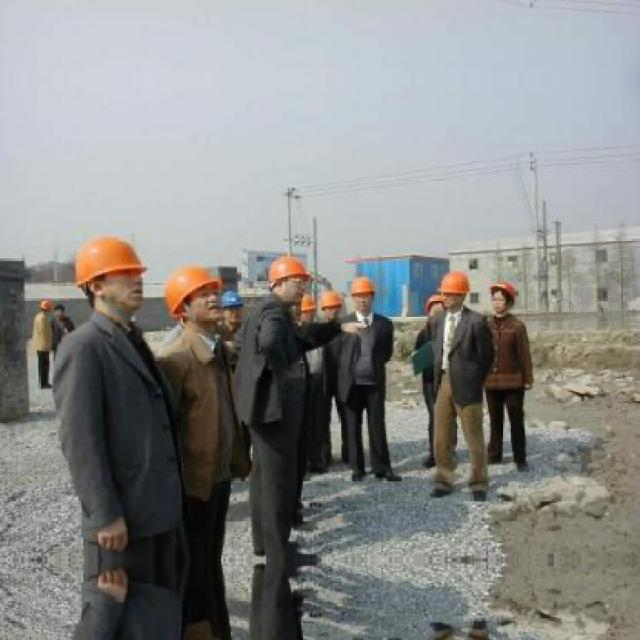helmet: (76, 238, 150, 318), (163, 268, 228, 323), (265, 257, 315, 311), (437, 270, 470, 310), (350, 276, 380, 315), (488, 281, 518, 316), (222, 288, 248, 327), (317, 291, 343, 323), (38, 298, 53, 316)
no_glove: (92, 508, 132, 556), (90, 565, 134, 605), (334, 316, 370, 338), (522, 377, 538, 394)
no_goggles: (92, 266, 144, 290), (184, 284, 226, 306), (277, 276, 312, 292), (489, 295, 511, 305), (351, 292, 373, 299)
no_helmet: (55, 303, 67, 318)
shoes: (372, 454, 404, 482), (425, 473, 457, 501), (466, 478, 493, 504), (348, 460, 369, 486), (480, 447, 508, 466), (513, 456, 534, 474)
